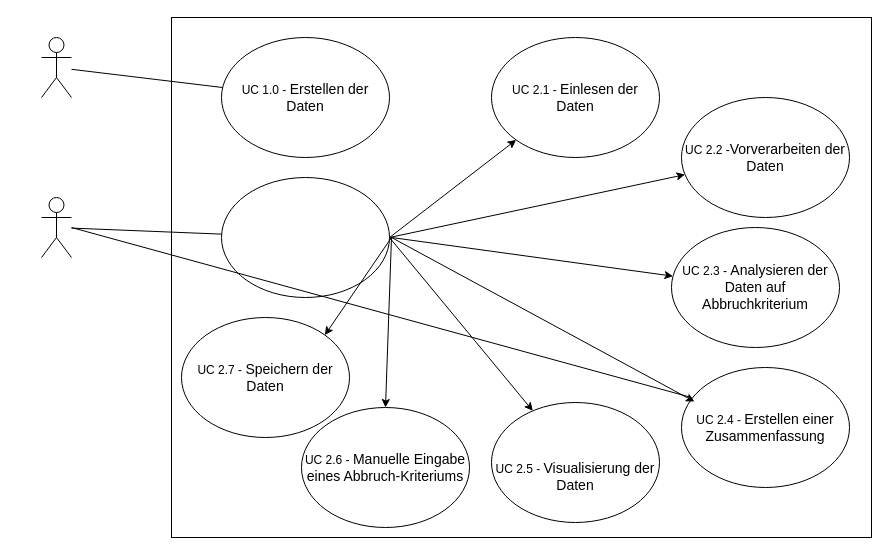
Some shapes in this 889 by 555 pixel diagram are drawn without their labels. The shapes that lost their labels are listed below. From the top down, each one's centre as x and y in pixels, then its label:
At pixel 56 67: "Ergometer".
At pixel 56 227: "Diagnostiker:in".
At pixel 305 237: "UC 2.0 - Auswertung der Leistungsdaten".
